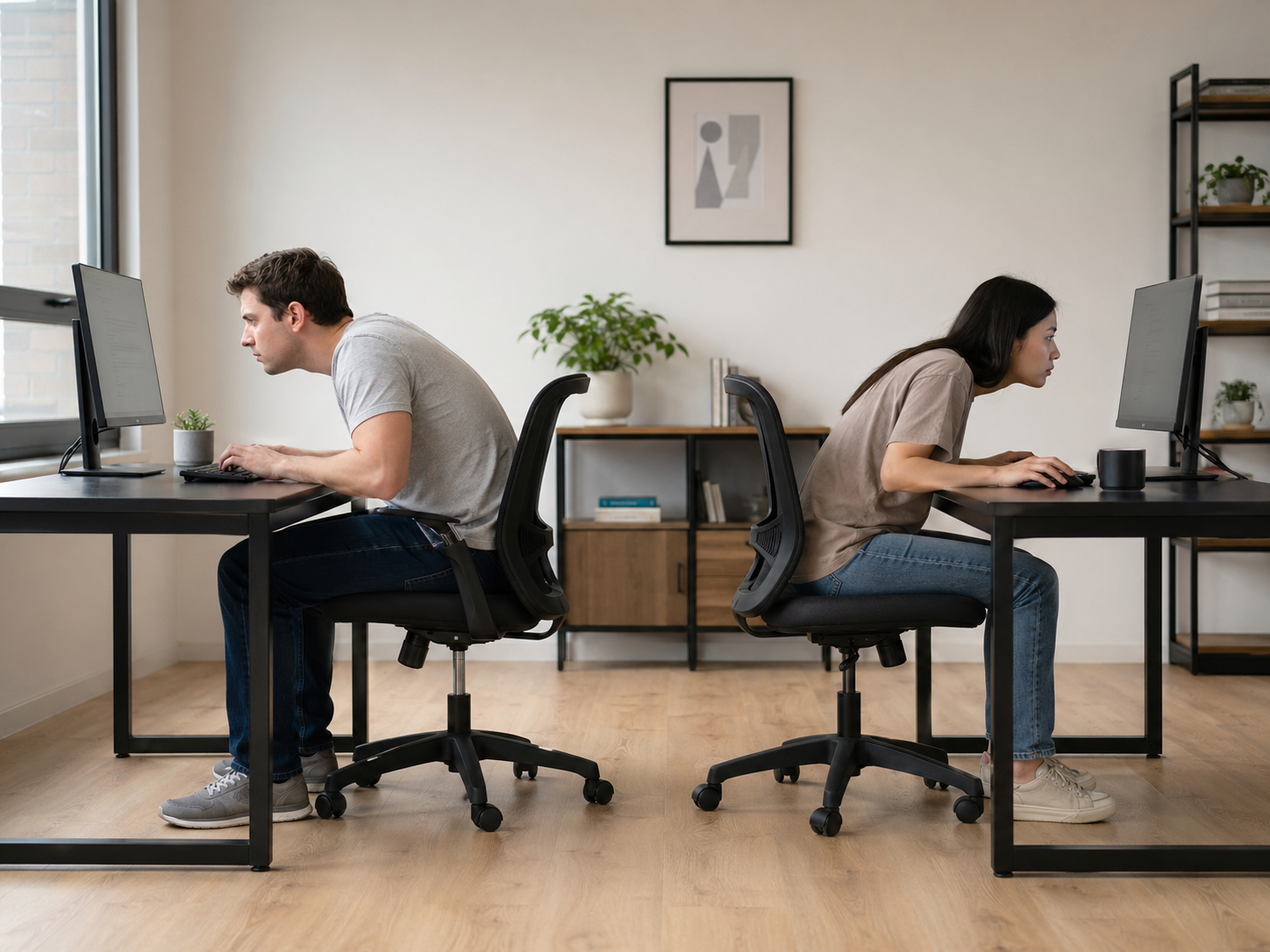sitting_bad: (168, 237, 526, 834), (766, 243, 1117, 820)
